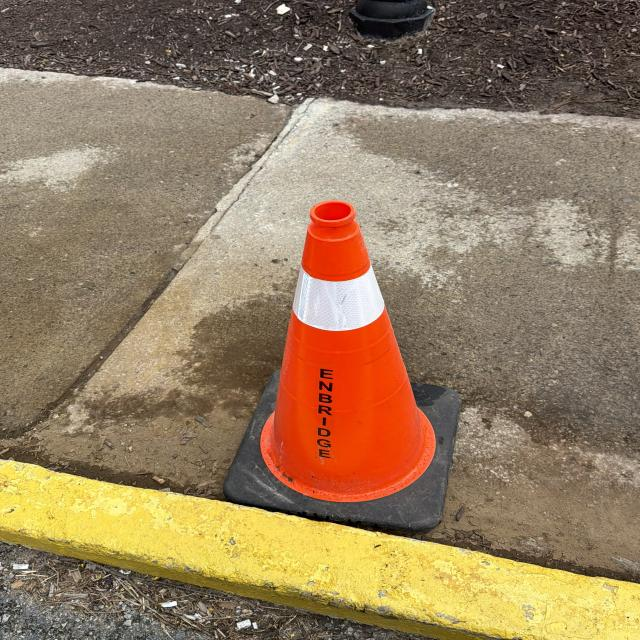Traffic Cone: (222, 201, 465, 530)
